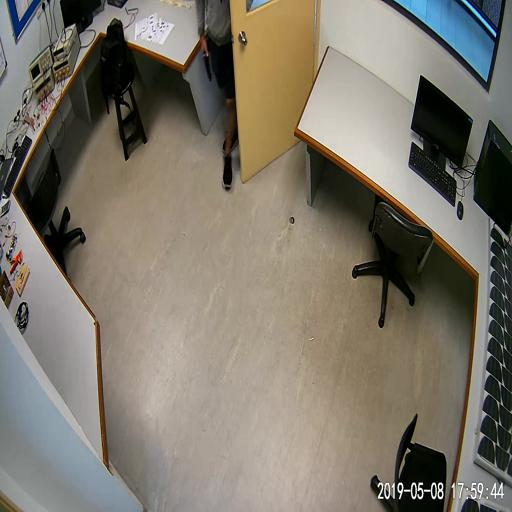pistol: (201, 41, 211, 81)
